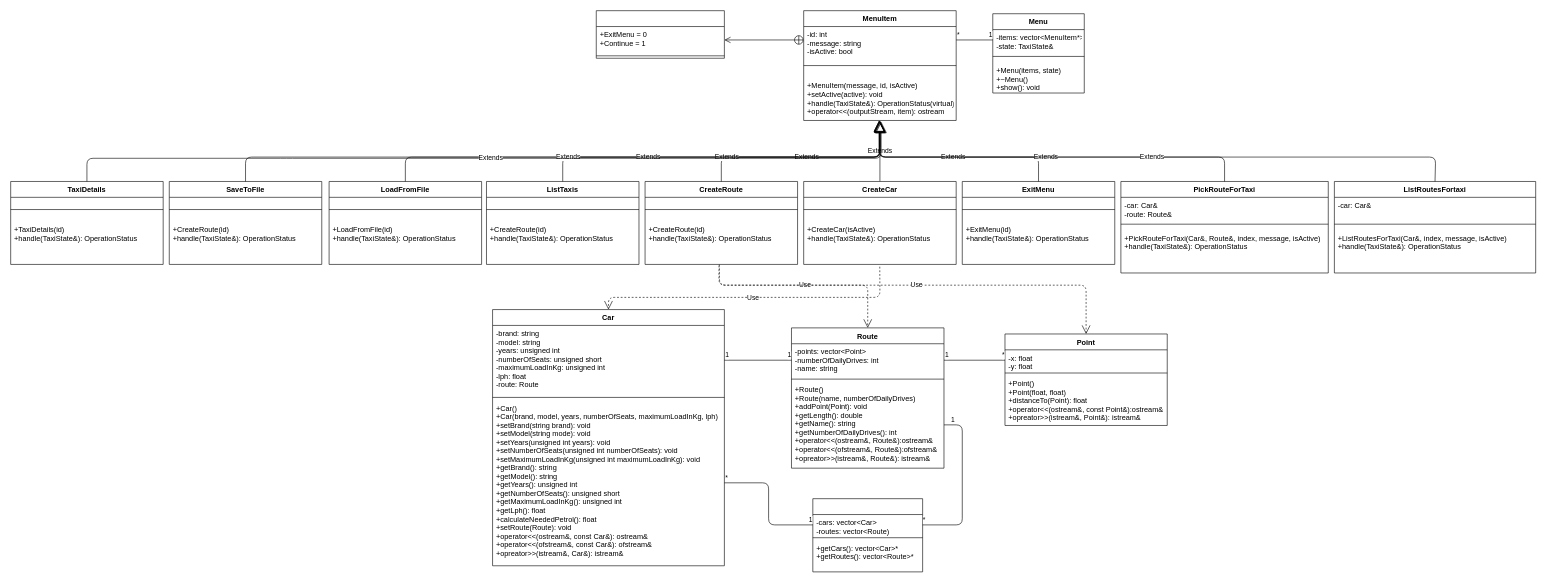
The diagram is 1546 pixels wide and 584 high, and some of its shapes have lost their labels. The shapes that lost their labels are listed below. From the top down, each one's box as (x1, y1, x2, y2) in pixels, then its label:
(596, 10, 724, 58): class enum OperationStatus
(812, 498, 923, 572): TaxiState
